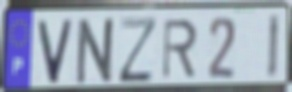2: (206, 15, 237, 81)
I: (266, 12, 282, 82)
N: (74, 15, 119, 87)
R: (161, 16, 200, 81)
V: (35, 17, 75, 87)
Z: (117, 15, 160, 86)
